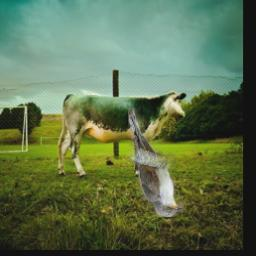Cuckoo: (128, 109, 184, 218)
